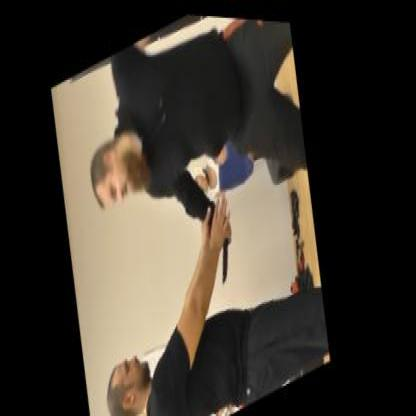knife: (212, 204, 247, 282)
